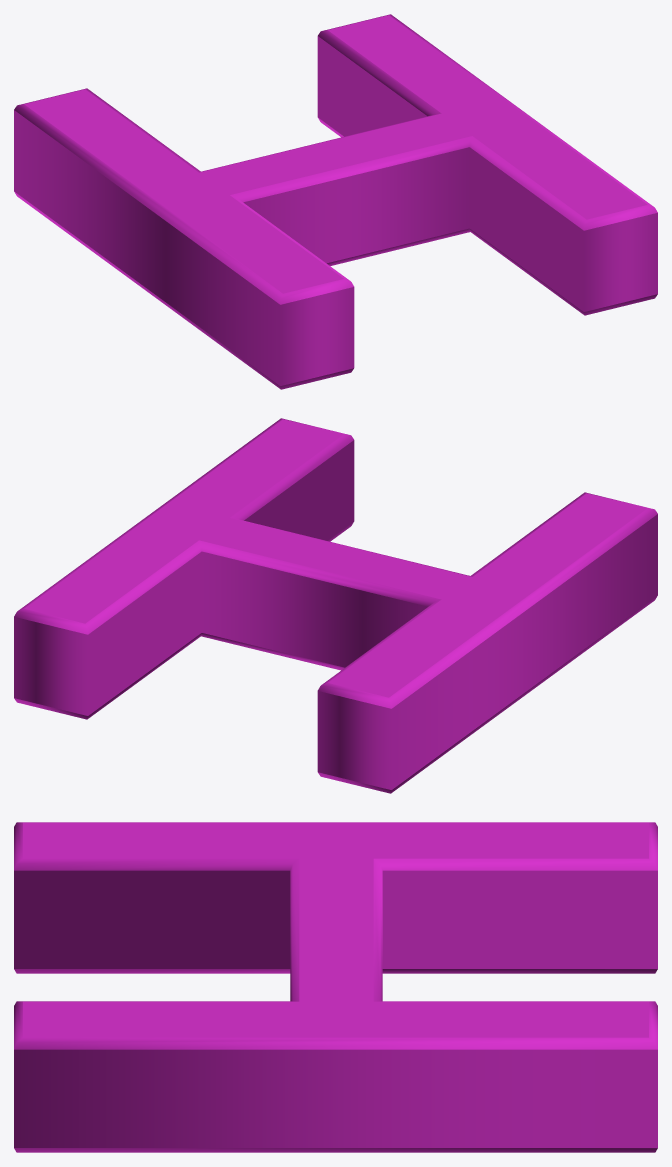
Rendered from Letter_H_Capital_CoolFont.fbx.
The picture shows the model from 3 angles, top to bottom: view 1: azimuth 30°, elevation 25°; view 2: azimuth 150°, elevation 25°; view 3: azimuth 270°, elevation 25°; orthographic projection. The views are drawn at different scales.
Visible parts, largest first — view 1: Letter_H; view 2: Letter_H; view 3: Letter_H.
Boxes of the visible parts, x1,y1,x2,y2 form: Letter_H: [14, 14, 657, 389]; Letter_H: [14, 418, 657, 793]; Letter_H: [14, 822, 657, 1152].
Size of the model in its own units: 0.5828 by 0.14 by 0.712.
